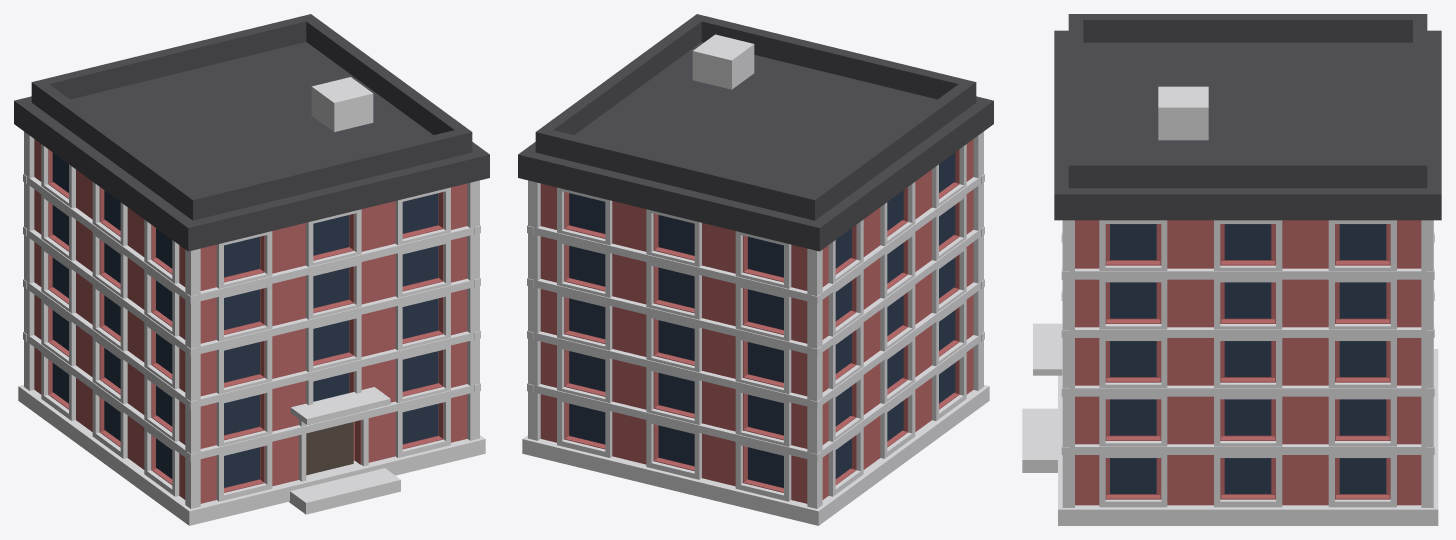
File: BuildingDetailedTall.fbx
3 renders of one model, left to right at view 1: azimuth 30°, elevation 25°; view 2: azimuth 150°, elevation 25°; view 3: azimuth 270°, elevation 25°, orthographic. The views are drawn at different scales.
Visible parts, largest first — view 1: Building Roof, Building Body, Window Frames, Roof Parapet, Window Glass, Belt Course, Corner Pilasters, Plinth, Stoop, Roof Vent, Door Panel, Door Awning (+1 smaller); view 2: Building Body, Building Roof, Window Frames, Window Glass, Roof Parapet, Belt Course, Corner Pilasters, Plinth, Roof Vent; view 3: Building Roof, Building Body, Window Glass, Roof Parapet, Window Frames, Belt Course, Plinth, Corner Pilasters, Roof Vent, Stoop, Door Awning.
Part boxes in pixels (box(x1,y1,x2,y2)): Building Roof: box(14, 42, 489, 251); Building Body: box(34, 139, 467, 503); Window Frames: box(41, 144, 450, 501); Roof Parapet: box(31, 14, 472, 220); Window Glass: box(52, 152, 438, 487); Belt Course: box(23, 174, 480, 461); Corner Pilasters: box(24, 131, 479, 508); Plinth: box(18, 385, 485, 525); Stoop: box(289, 468, 400, 514); Roof Vent: box(311, 77, 373, 132); Door Panel: box(306, 422, 353, 475); Door Awning: box(290, 387, 390, 424); Building Body: box(540, 139, 973, 503); Building Roof: box(518, 42, 993, 251); Window Frames: box(557, 144, 966, 501); Window Glass: box(569, 152, 955, 487); Roof Parapet: box(535, 14, 976, 220); Belt Course: box(527, 174, 984, 461); Corner Pilasters: box(528, 131, 983, 508); Plinth: box(522, 385, 989, 525); Roof Vent: box(692, 34, 754, 89); Building Roof: box(1054, 30, 1441, 220); Building Body: box(1075, 220, 1421, 505); Window Glass: box(1110, 224, 1386, 493); Roof Parapet: box(1068, 14, 1427, 188); Window Frames: box(1099, 220, 1396, 507); Belt Course: box(1061, 220, 1434, 455); Plinth: box(1058, 349, 1438, 525); Corner Pilasters: box(1062, 220, 1433, 507); Roof Vent: box(1158, 86, 1208, 140); Stoop: box(1022, 408, 1057, 472); Door Awning: box(1033, 323, 1062, 375).
Size of the model in its own units: 108 by 119 by 117.
